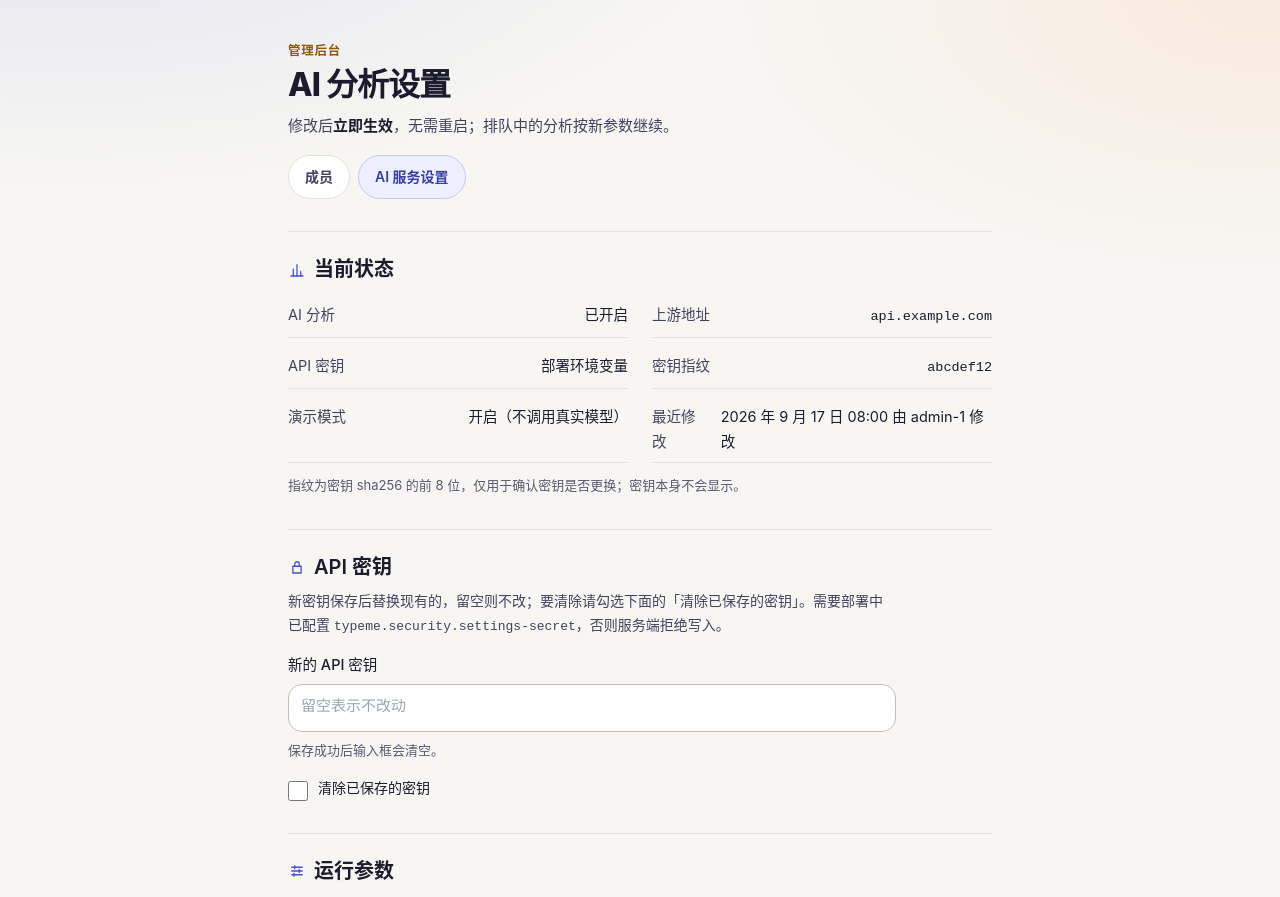
Test: 管理后台 · AI 设置 › 填了新密钥：提交后输入框清空，提示说明只写不读
Type "sk-test-0123456789" into the password field labelled "新的 API 密钥". click: coordinates (592, 708)
box: [288, 684, 896, 732]
(page scrolled)
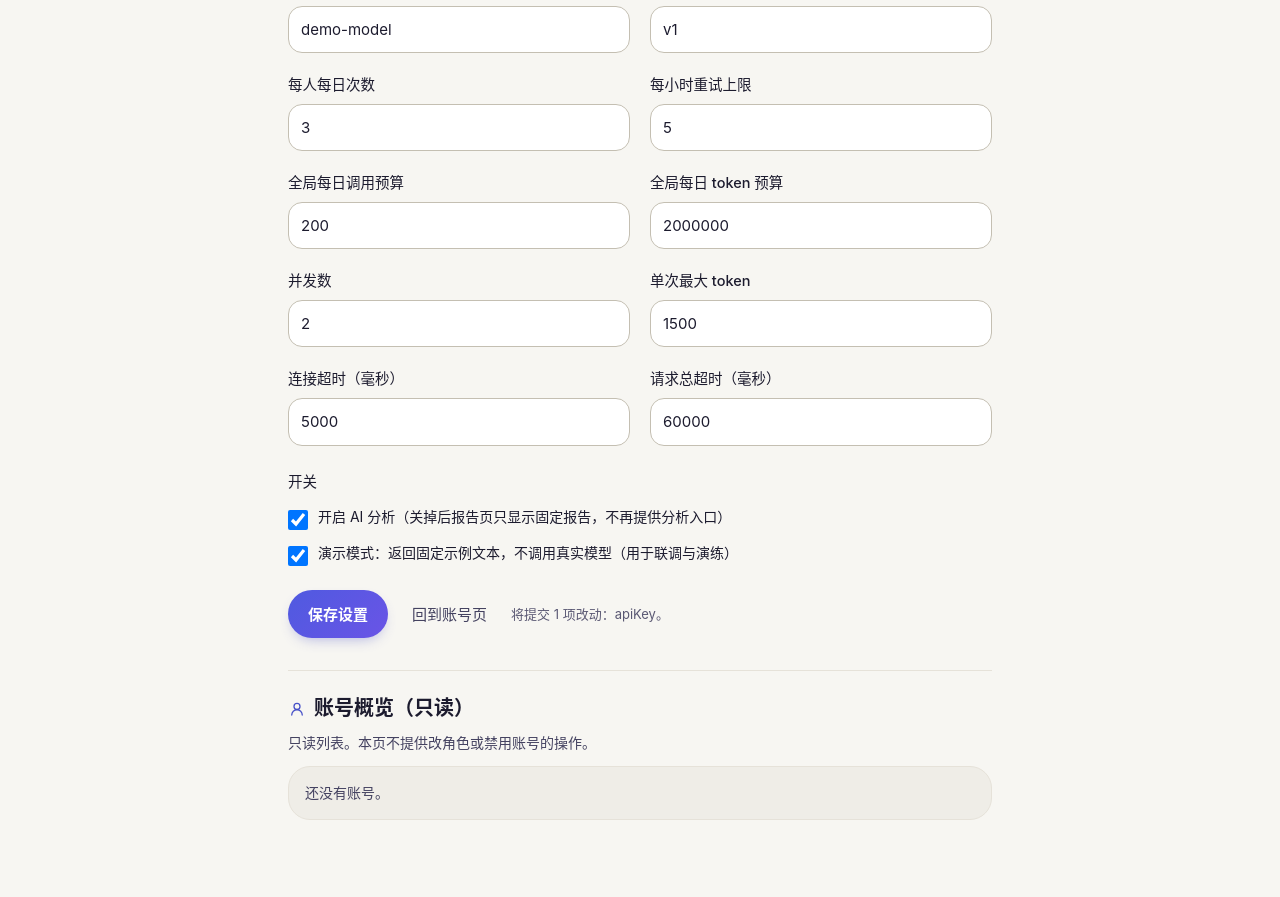
Click the button "保存设置". click: coordinates (338, 614)
box: [288, 590, 388, 638]
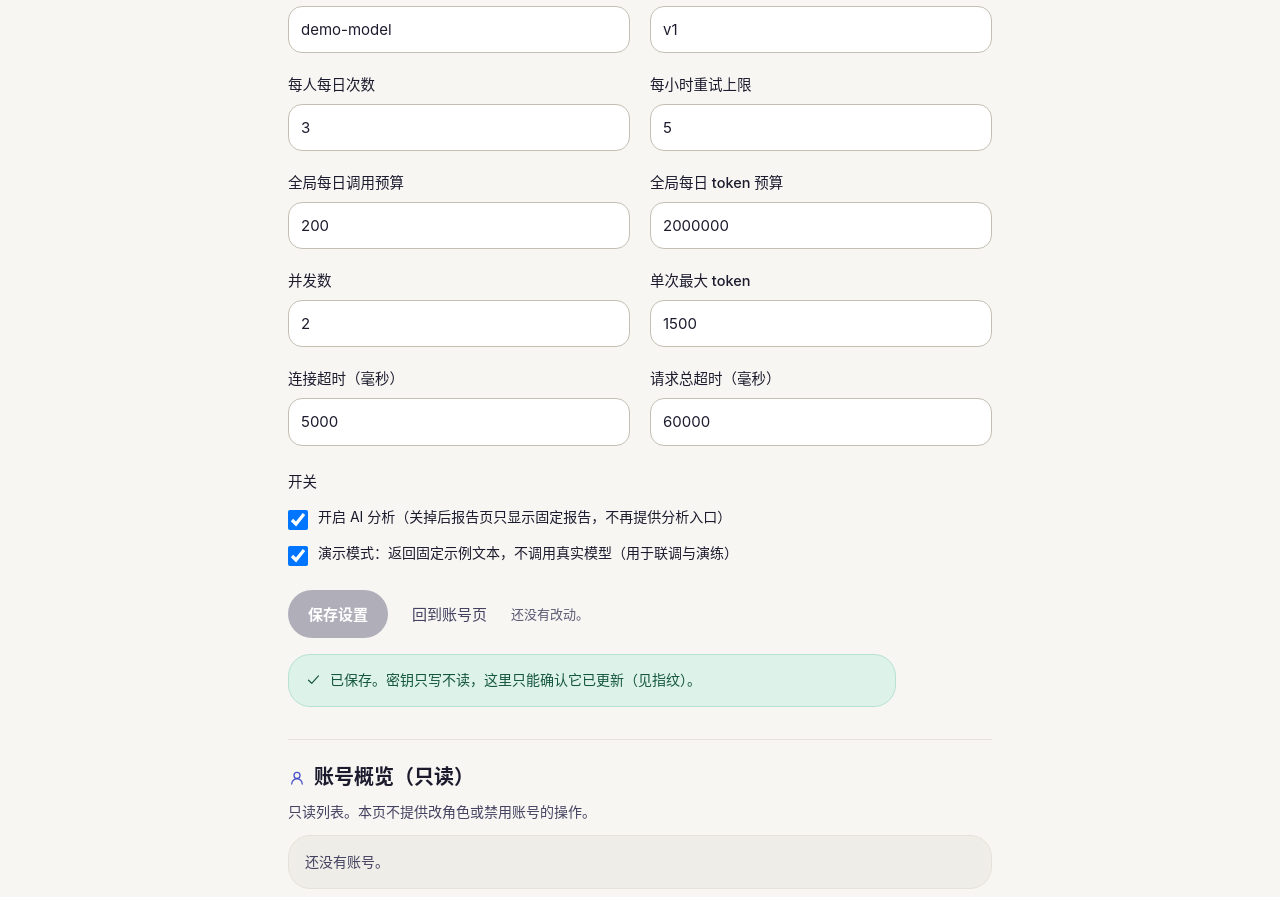
Result: the message "已保存。密钥只写不读，这里只能确认它已更新（见指纹）。" is shown at [288, 654, 896, 707]
